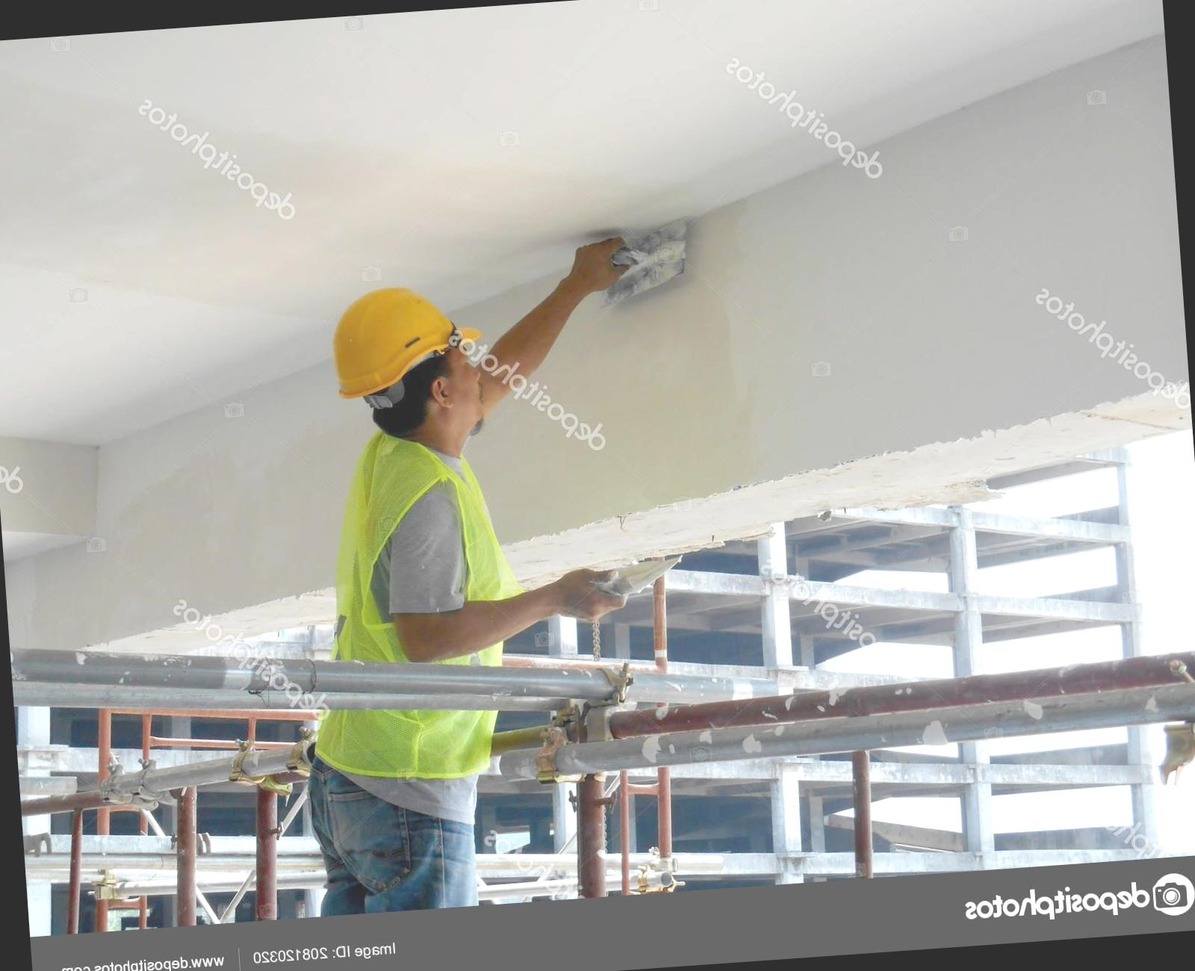helmet: (326, 275, 494, 416)
person: (272, 285, 536, 925)
